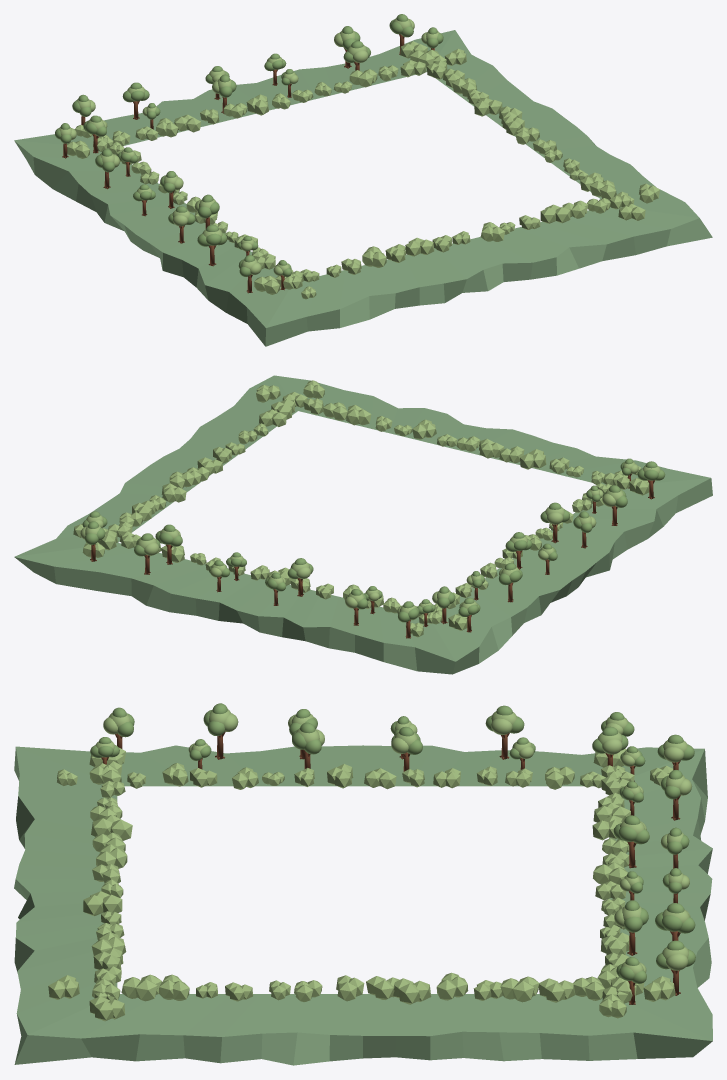
File: border.glb
The picture shows the model from 3 angles, top to bottom: view 1: azimuth 30°, elevation 25°; view 2: azimuth 150°, elevation 25°; view 3: azimuth 270°, elevation 25°; orthographic projection. The views are drawn at different scales.
Visible parts, largest first — view 1: ForestBorder; view 2: ForestBorder; view 3: ForestBorder.
Boxes of the visible parts, x1,y1,x2,y2 form: ForestBorder: [14, 14, 712, 346]; ForestBorder: [14, 375, 712, 674]; ForestBorder: [14, 703, 712, 1065].
Size of the model in its own units: 80.56 by 10.43 by 80.47.
